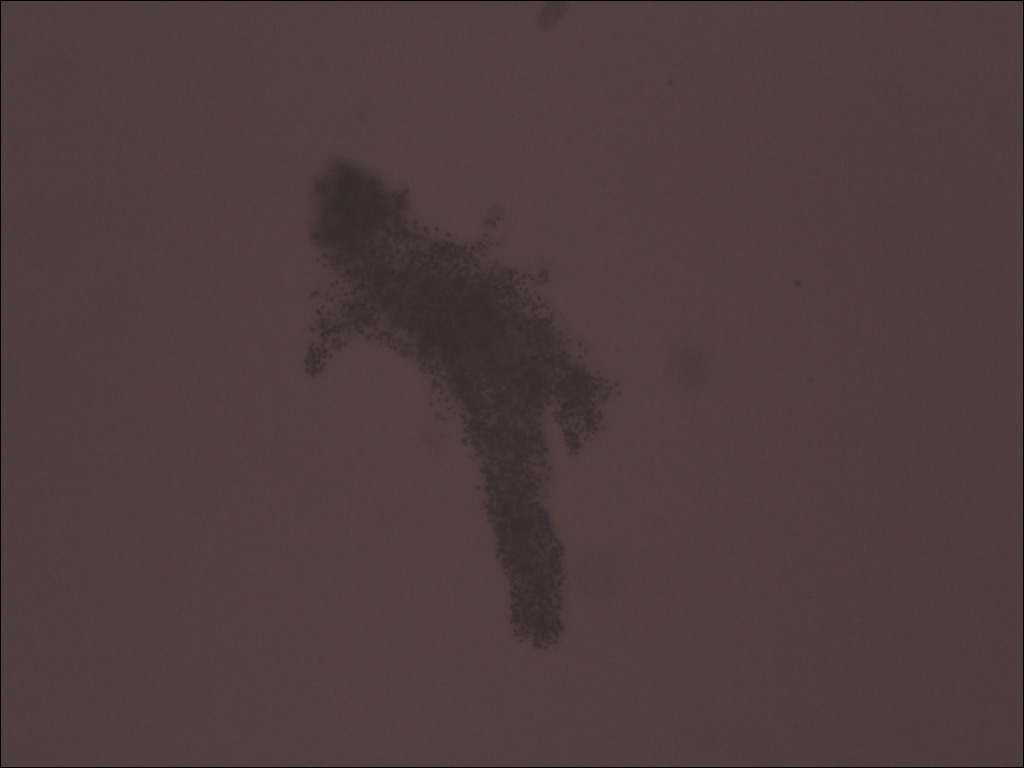amoeba: (284, 141, 631, 668)
